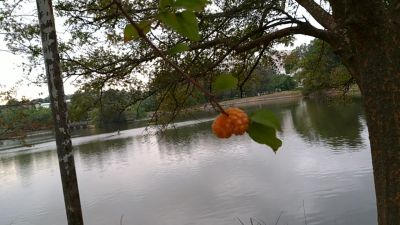eggs: (210, 106, 249, 139)
